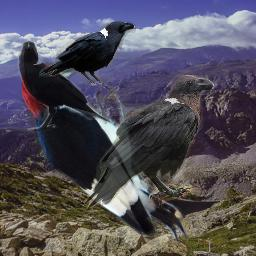Crow: (83, 75, 214, 209), (17, 40, 109, 131), (39, 21, 136, 91)
Woodpecker: (22, 61, 193, 245)
